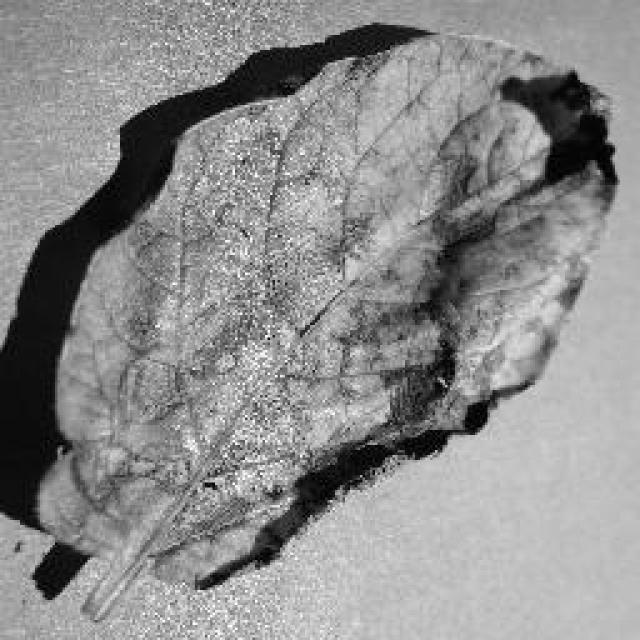Potato: (15, 22, 620, 620)
